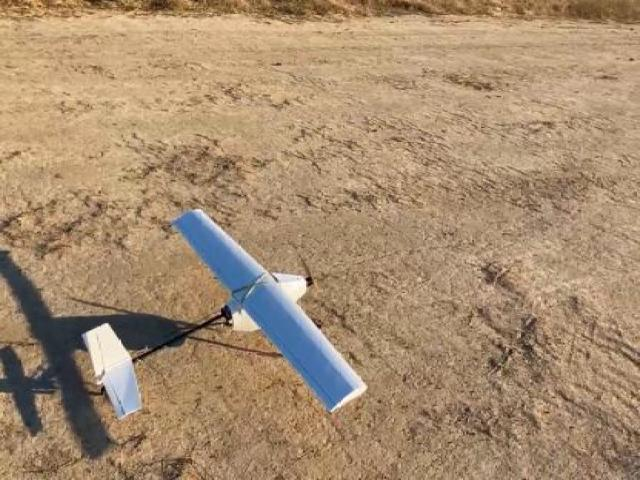uav: (84, 206, 368, 424)
